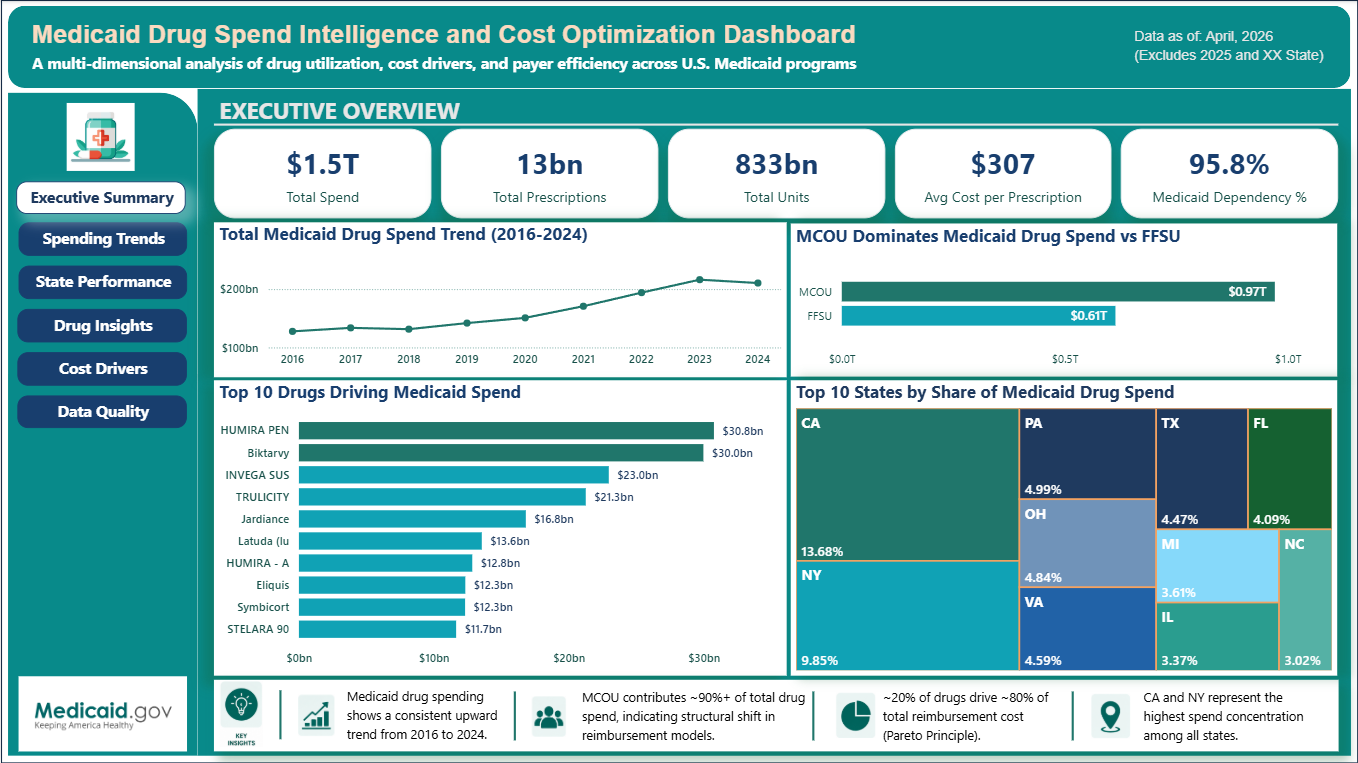

The page's visual inventory and layout, read from the dashboard file:
{"tool":"powerbi","page":{"name":"EXECUTIVE OVERVIEW","canvas":[1280,720],"ordinal":0},"visuals":[{"type":"shape","box":[0,0,1280,720],"z":0},{"type":"shape","box":[6.6,87.2,178.8,625.7],"z":1000},{"type":"shape","box":[6.2,5,1266.2,77.5],"z":2000},{"type":"textbox","title":"Medicaid Drug Spend Intelligence and Cost Optimization Dashboard","box":[24.3,18.8,966.6,51.9],"z":3000},{"type":"shape","box":[16.7,637.8,158.9,71.1],"z":4000},{"type":"shape","box":[46.9,224,107.4,27.4],"z":5000},{"type":"textbox","box":[1117.8,28.7,143.4,33.1],"z":6000},{"type":"shape","box":[185.6,83.3,1087.8,628.9],"z":7000},{"type":"card","fields":{"Values":["Sum(analytics kpi_yearly.Total_Spend)"]},"box":[200.8,121.4,205.2,85],"z":8000},{"type":"card","fields":{"Values":["Sum(analytics kpi_yearly.Total_Prescriptions)"]},"box":[414.9,121.4,205.2,85],"z":9000},{"type":"card","fields":{"Values":["Sum(analytics kpi_yearly.Total_Units)"]},"box":[629,121.4,205.2,85],"z":10000},{"type":"card","fields":{"Values":["Avg(analytics kpi_yearly.Avg_Cost_Per_Prescription)"]},"box":[843,121.4,204.1,85],"z":11000},{"type":"card","fields":{"Values":["Avg(analytics kpi_yearly.Avg_Medicaid_Dependency_Ratio)"]},"box":[1056,121.4,205.2,85],"z":12000},{"type":"lineChart","title":"Total Medicaid  Drug Spend Trend (2016-2024)","fields":{"Category":["analytics kpi_yearly.Year"],"Y":["Sum(analytics kpi_yearly.Total_Spend)"]},"box":[200.7,209.5,539.8,145.9],"z":13000},{"type":"clusteredBarChart","title":"MCOU Dominates Medicaid Drug Spend vs FFSU","fields":{"Category":["analytics kpi_utilization_type.Utilization_Type"],"Y":["Sum(analytics kpi_utilization_type.Total_Spend)"]},"box":[744.4,211.1,515.6,144.4],"z":14000},{"type":"clusteredBarChart","title":"Top 10 Drugs Driving Medicaid Spend","fields":{"Category":["analytics kpi_drug (2).Product_Name"],"Y":["Sum(analytics kpi_drug (2).Total_Spend)"]},"box":[201.1,358.9,540,278.9],"z":15000},{"type":"textbox","box":[200.9,640.9,1060.9,67.3],"z":16000},{"type":"textbox","title":"EXECUTIVE DECISION OVERVIEW","box":[200.8,83.9,1060.4,44.1],"z":17000},{"type":"shape","box":[200.8,109.2,1060.4,16.5],"z":18000},{"type":"image","box":[32.2,647.8,128.9,55.6],"z":19000},{"type":"treemap","title":"Top 10 States by Share of Medicaid Drug Spend","fields":{"Group":["kpi_state_clean.State"],"Values":["kpi_state_clean.State Spend Share %"]},"box":[744.4,358.9,515.6,278.9],"z":20000},{"type":"textbox","title":"Spending Trends","box":[16.6,200.8,158.9,32],"z":21000},{"type":"textbox","title":"State Performance","box":[16.6,241.7,158.9,32],"z":22000},{"type":"textbox","title":"Drug Insights","box":[15.4,282.5,160,32],"z":23000},{"type":"textbox","title":"Cost Drivers","box":[15.4,323.3,160,32],"z":24000},{"type":"textbox","title":"Data Quality","box":[15.4,364.1,160,30.9],"z":25000},{"type":"image","box":[40,93.3,107.8,64.4],"z":26000},{"type":"textbox","title":"Executive Summary","box":[14.3,162.2,160,30.9],"z":27000},{"type":"textbox","box":[320.9,640.9,163.6,67.3],"z":28000},{"type":"image","box":[190,641.8,73.6,62.7],"z":29000},{"type":"image","box":[280,653.6,34.5,42.7],"z":30000},{"type":"shape","box":[247.3,650.9,32.7,46.4],"z":31000},{"type":"shape","box":[470,651.8,29.1,46.4],"z":32000},{"type":"image","box":[499.1,656.4,36.4,38.2],"z":33000},{"type":"textbox","box":[542.7,641.8,223.6,67.3],"z":34000},{"type":"shape","box":[747.3,651.8,38.2,46.4],"z":35000},{"type":"image","box":[785.5,653.6,40.9,42.7],"z":36000},{"type":"textbox","box":[826.7,642.2,175.6,65.6],"z":37000},{"type":"shape","box":[1002.7,651.8,15.5,46.4],"z":38000},{"type":"image","box":[1027.3,654.5,39.1,41.8],"z":39000},{"type":"textbox","box":[1072.2,642.2,171.1,67.8],"z":40000}]}

Visuals, with their boxes in screenshot pixels (x1, y1, x2, y2), scaled from the page's 1280x720 canvas onto the 1358x763 screenshot:
shape: x1=0 y1=0 x2=1357 y2=762
shape: x1=7 y1=92 x2=197 y2=755
shape: x1=7 y1=5 x2=1350 y2=87
"Medicaid Drug Spend Intelligence and Cost Optimization Dashboard" textbox: x1=26 y1=20 x2=1051 y2=75
shape: x1=18 y1=676 x2=186 y2=751
shape: x1=50 y1=237 x2=164 y2=266
textbox: x1=1186 y1=30 x2=1338 y2=65
shape: x1=197 y1=88 x2=1351 y2=755
card - Sum(analytics kpi_yearly.Total_Spend): x1=213 y1=129 x2=431 y2=219
card - Sum(analytics kpi_yearly.Total_Prescriptions): x1=440 y1=129 x2=658 y2=219
card - Sum(analytics kpi_yearly.Total_Units): x1=667 y1=129 x2=885 y2=219
card - Avg(analytics kpi_yearly.Avg_Cost_Per_Prescription): x1=894 y1=129 x2=1111 y2=219
card - Avg(analytics kpi_yearly.Avg_Medicaid_Dependency_Ratio): x1=1120 y1=129 x2=1338 y2=219
"Total Medicaid  Drug Spend Trend (2016-2024)" lineChart: x1=213 y1=222 x2=786 y2=377
"MCOU Dominates Medicaid Drug Spend vs FFSU" clusteredBarChart: x1=790 y1=224 x2=1337 y2=377
"Top 10 Drugs Driving Medicaid Spend" clusteredBarChart: x1=213 y1=380 x2=786 y2=676
textbox: x1=213 y1=679 x2=1339 y2=750
"EXECUTIVE DECISION OVERVIEW" textbox: x1=213 y1=89 x2=1338 y2=136
shape: x1=213 y1=116 x2=1338 y2=133
image: x1=34 y1=686 x2=171 y2=745
"Top 10 States by Share of Medicaid Drug Spend" treemap: x1=790 y1=380 x2=1337 y2=676
"Spending Trends" textbox: x1=18 y1=213 x2=186 y2=247
"State Performance" textbox: x1=18 y1=256 x2=186 y2=290
"Drug Insights" textbox: x1=16 y1=299 x2=186 y2=333
"Cost Drivers" textbox: x1=16 y1=343 x2=186 y2=377
"Data Quality" textbox: x1=16 y1=386 x2=186 y2=419
image: x1=42 y1=99 x2=157 y2=167
"Executive Summary" textbox: x1=15 y1=172 x2=185 y2=205
textbox: x1=340 y1=679 x2=514 y2=750
image: x1=202 y1=680 x2=280 y2=747
image: x1=297 y1=693 x2=334 y2=738
shape: x1=262 y1=690 x2=297 y2=739
shape: x1=499 y1=691 x2=530 y2=740
image: x1=530 y1=696 x2=568 y2=736
textbox: x1=576 y1=680 x2=813 y2=751
shape: x1=793 y1=691 x2=833 y2=740
image: x1=833 y1=693 x2=877 y2=738
textbox: x1=877 y1=681 x2=1063 y2=750
shape: x1=1064 y1=691 x2=1080 y2=740
image: x1=1090 y1=694 x2=1131 y2=738
textbox: x1=1138 y1=681 x2=1319 y2=752
